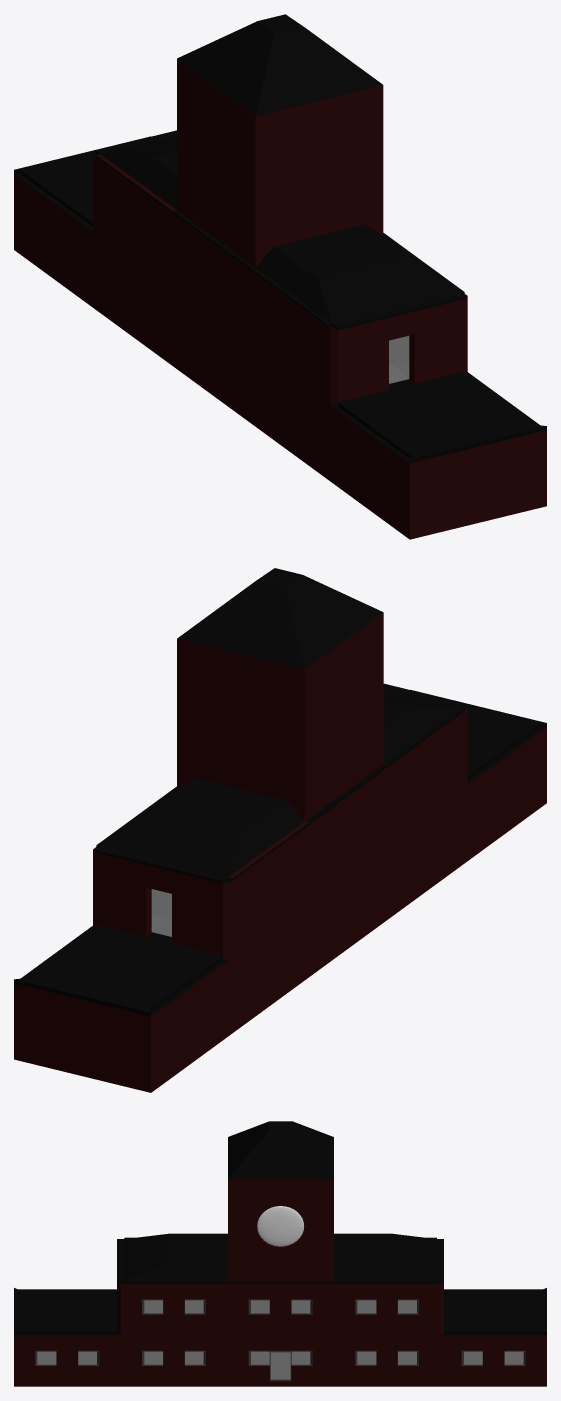
File: BIGTOWER.fbx
3 views of the same model, one above another, from view 1: azimuth 30°, elevation 25°; view 2: azimuth 150°, elevation 25°; view 3: azimuth 270°, elevation 25° (orthographic). The views are drawn at different scales.
Visible parts, largest first — view 1: Cube; view 2: Cube; view 3: Cube, Torus.
Part boxes in pixels (left/top/right/bottom): Cube: left=14, top=14, right=546, bottom=539; Cube: left=14, top=568, right=546, bottom=1092; Cube: left=14, top=1121, right=546, bottom=1386; Torus: left=257, top=1206, right=304, bottom=1246.
Bounding box in the file's own units: 989 × 2440 × 4948.
